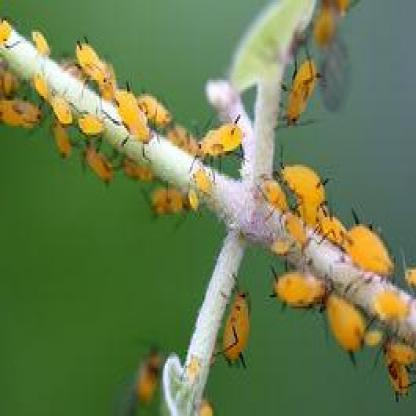aphid: (341, 210, 397, 275), (281, 157, 330, 228), (122, 340, 164, 416), (222, 278, 254, 375), (326, 296, 376, 357), (268, 264, 333, 306), (194, 119, 251, 162), (286, 54, 314, 137), (308, 190, 346, 248), (114, 84, 153, 140), (73, 35, 113, 84), (135, 84, 178, 129), (387, 330, 416, 396), (310, 4, 346, 54), (144, 179, 192, 216), (1, 87, 40, 128), (166, 114, 202, 155), (376, 290, 412, 330), (257, 170, 289, 211), (84, 141, 116, 181), (47, 122, 78, 159), (120, 150, 151, 183), (74, 112, 106, 141), (0, 12, 20, 52), (47, 94, 75, 122), (397, 256, 416, 292), (33, 66, 51, 99), (30, 30, 51, 57), (190, 169, 214, 191)
